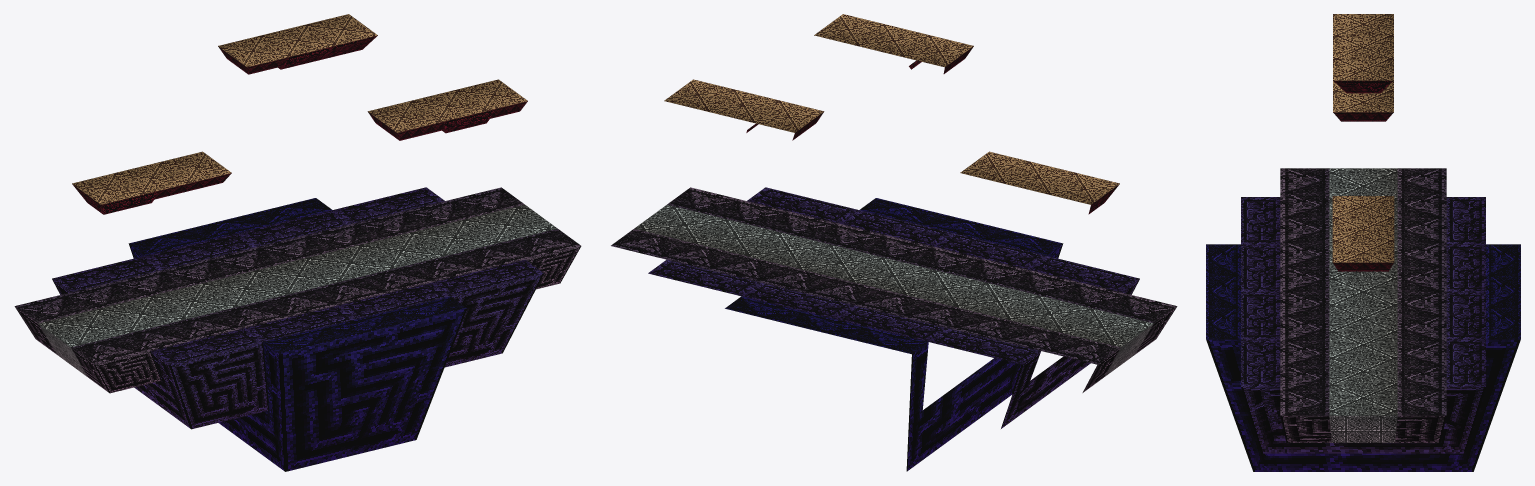
The model's file is Battlefield.glb.
3 renders of one model, left to right at view 1: azimuth 30°, elevation 25°; view 2: azimuth 150°, elevation 25°; view 3: azimuth 270°, elevation 25°, orthographic. The views are drawn at different scales.
Parts seen in each view (by area): view 1: Battlefield_5, Battlefield_2, Battlefield_6, Battlefield_4, Battlefield_1, Battlefield_8, Battlefield_3, Battlefield_0, Battlefield_7, Battlefield_10, Battlefield_9; view 2: Battlefield_5, Battlefield_6, Battlefield_4, Battlefield_8, Battlefield_2, Battlefield_3, Battlefield_1, Battlefield_0; view 3: Battlefield_5, Battlefield_4, Battlefield_6, Battlefield_8, Battlefield_2, Battlefield_3, Battlefield_1, Battlefield_0, Battlefield_7, Battlefield_10.
Boxes of the visible parts, x1,y1,x2,y2 form: Battlefield_5: [15, 187, 580, 364]; Battlefield_2: [129, 244, 466, 471]; Battlefield_6: [38, 204, 557, 376]; Battlefield_4: [52, 187, 543, 364]; Battlefield_1: [52, 273, 543, 429]; Battlefield_8: [72, 14, 527, 204]; Battlefield_3: [129, 198, 466, 354]; Battlefield_0: [15, 246, 581, 393]; Battlefield_7: [154, 46, 527, 199]; Battlefield_10: [72, 66, 495, 214]; Battlefield_9: [281, 35, 377, 69]; Battlefield_5: [611, 187, 1176, 364]; Battlefield_6: [634, 204, 1153, 376]; Battlefield_4: [648, 187, 1139, 364]; Battlefield_8: [664, 14, 1119, 204]; Battlefield_2: [906, 244, 1062, 471]; Battlefield_3: [725, 198, 1062, 354]; Battlefield_1: [1001, 279, 1139, 428]; Battlefield_0: [1082, 307, 1176, 392]; Battlefield_5: [1280, 168, 1446, 415]; Battlefield_4: [1241, 197, 1485, 386]; Battlefield_6: [1329, 168, 1397, 442]; Battlefield_8: [1332, 14, 1394, 262]; Battlefield_2: [1206, 339, 1520, 471]; Battlefield_3: [1206, 244, 1520, 339]; Battlefield_1: [1241, 387, 1485, 453]; Battlefield_0: [1280, 415, 1446, 442]; Battlefield_7: [1333, 112, 1393, 271]; Battlefield_10: [1333, 80, 1393, 93].
Bounding box in the file's own units: 488 × 360 × 263.
Materials: 11 (11 with a texture image).
